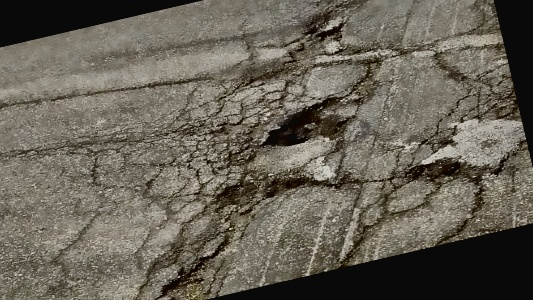pothole: (251, 95, 343, 158), (210, 164, 309, 212), (151, 262, 218, 300), (297, 5, 353, 49), (405, 153, 468, 191)
